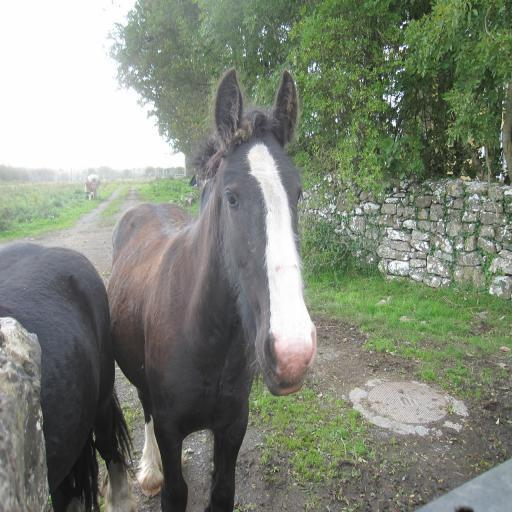horse: (106, 69, 318, 512), (0, 240, 140, 512)
